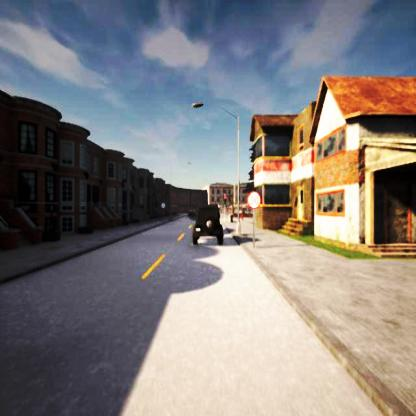vehicle: (192, 203, 223, 243)
